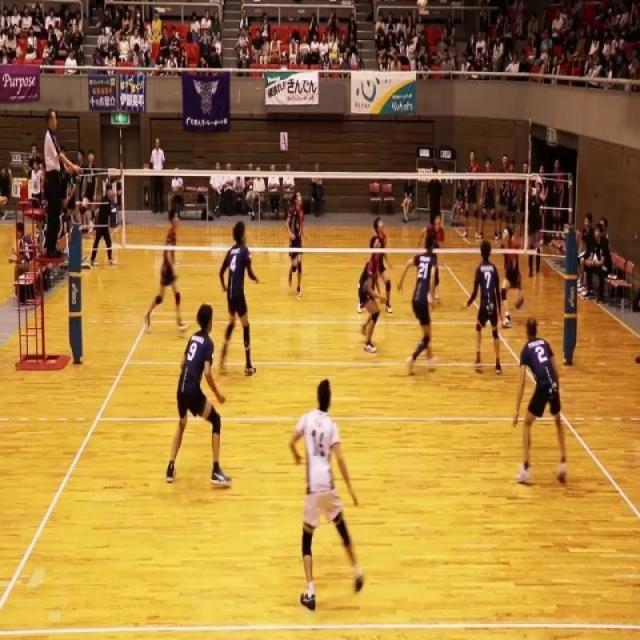volleyball: (416, 0, 428, 10)
